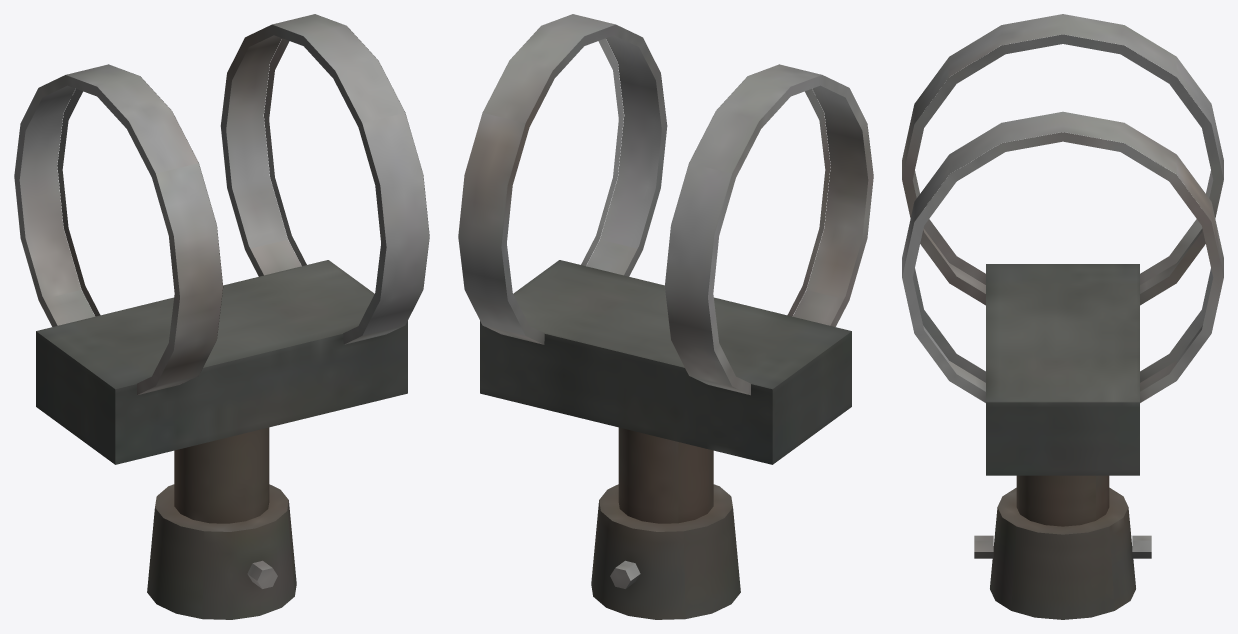
Rendered from mastMount1-v1.glb.
The picture shows the model from 3 angles, left to right: view 1: azimuth 30°, elevation 25°; view 2: azimuth 150°, elevation 25°; view 3: azimuth 270°, elevation 25°; orthographic projection. The views are drawn at different scales.
Parts seen in each view (by area): view 1: mastMount1-v1; view 2: mastMount1-v1; view 3: mastMount1-v1.
Boxes of the visible parts, <box> form: mastMount1-v1: <box>14,14,429,619</box>; mastMount1-v1: <box>458,14,873,619</box>; mastMount1-v1: <box>902,14,1223,619</box>.
Size of the model in its own units: 0.17 by 0.2955 by 0.167.
Materials: 1 (1 with a texture image).
